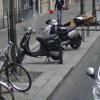Bicycle: (1, 36, 33, 94)
